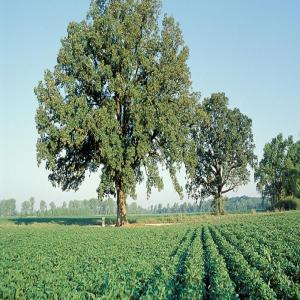Tree: (32, 0, 192, 218), (189, 90, 257, 217), (254, 130, 300, 215)
